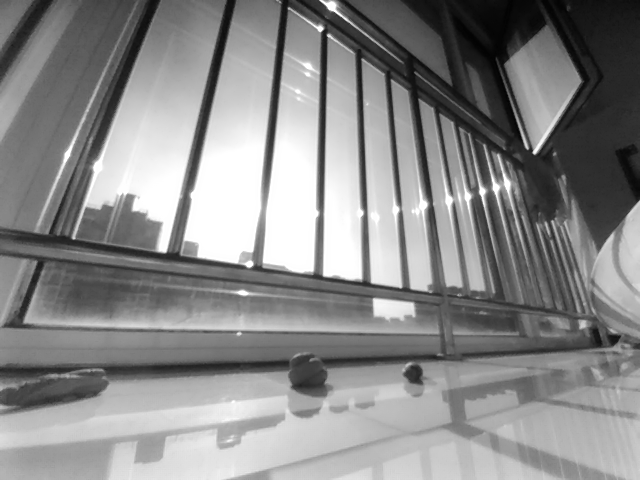pet feces: (1, 367, 111, 411), (287, 352, 329, 389), (401, 363, 423, 384)
